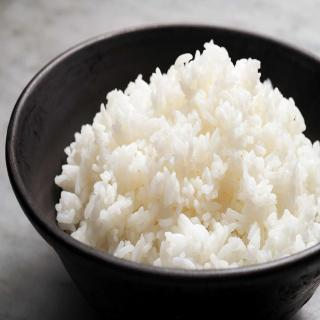Nasi: (55, 39, 320, 271)
